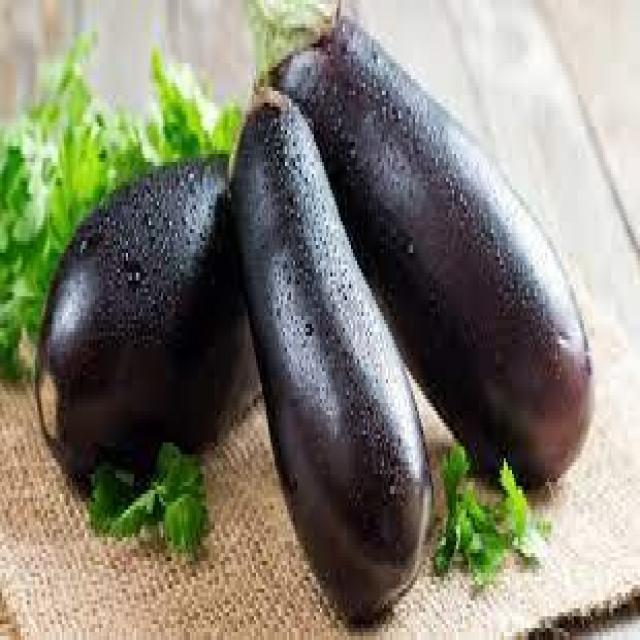eggplant: (244, 0, 594, 485), (228, 68, 433, 616)
